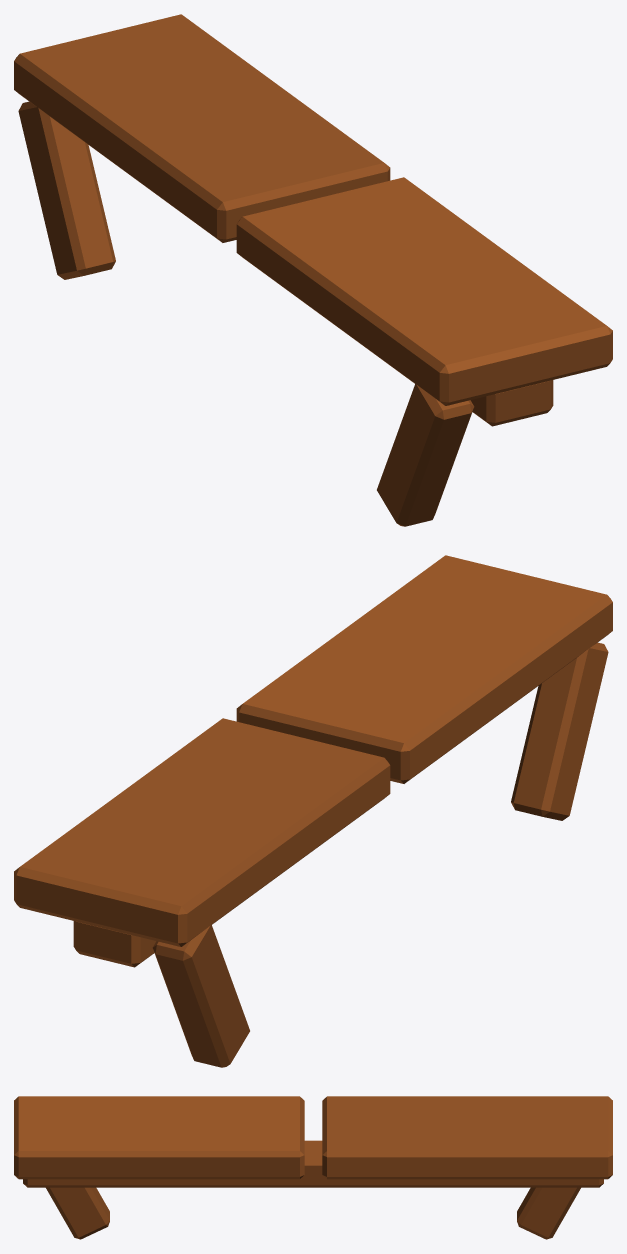
The model's file is EM_BoatBench.fbx.
The picture shows the model from 3 angles, top to bottom: view 1: azimuth 30°, elevation 25°; view 2: azimuth 150°, elevation 25°; view 3: azimuth 270°, elevation 25°; orthographic projection. The views are drawn at different scales.
Parts seen in each view (by area): view 1: EM_BoatBench; view 2: EM_BoatBench; view 3: EM_BoatBench.
Boxes of the visible parts, x1,y1,x2,y2 form: EM_BoatBench: [14, 14, 612, 526]; EM_BoatBench: [14, 555, 612, 1067]; EM_BoatBench: [14, 1096, 612, 1239].
Bounding box in the file's own units: 0.31 × 0.3309 × 1.34.
